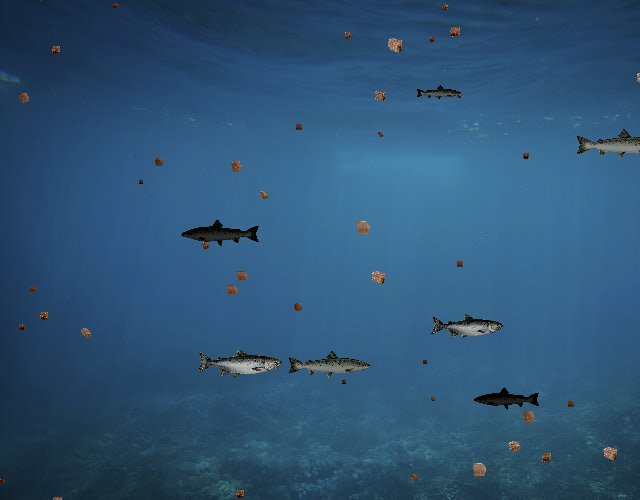Fish: (286, 349, 372, 380), (196, 348, 282, 379), (181, 219, 262, 248), (574, 128, 640, 162), (430, 314, 503, 340), (474, 386, 542, 410), (416, 85, 463, 102)
Pellet: (516, 404, 542, 430), (502, 434, 527, 459), (75, 322, 96, 344), (518, 149, 532, 163), (426, 33, 439, 46), (109, 0, 121, 11)
